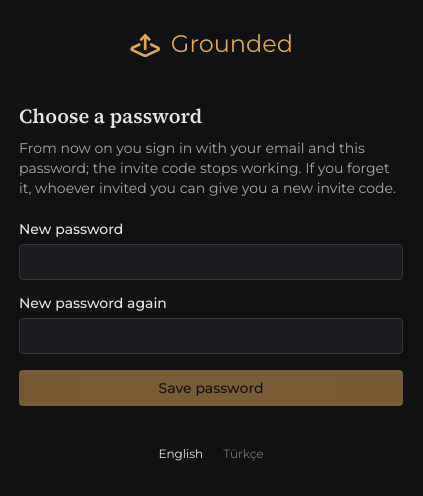
Test: the password page › words the server's length rule
Type "short" into the password field labelled "New password" at [211, 262], box [19,244,403,280]
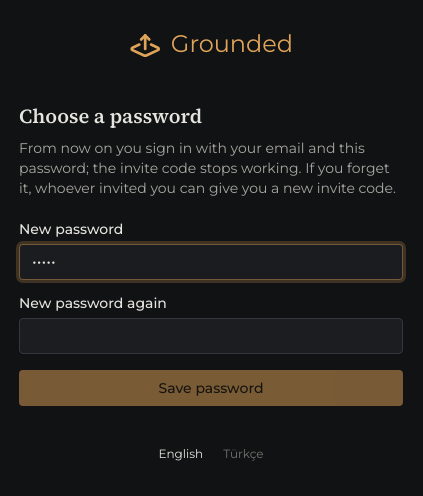
Type "short" into the password field labelled "New password again" at [211, 336], box [19,318,403,354]
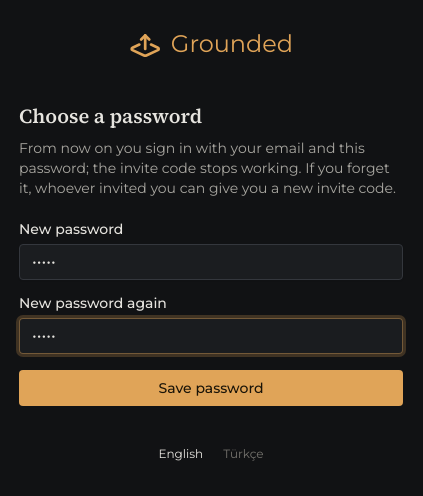
Click the button "Save password" at [211, 388], box [19,370,403,406]
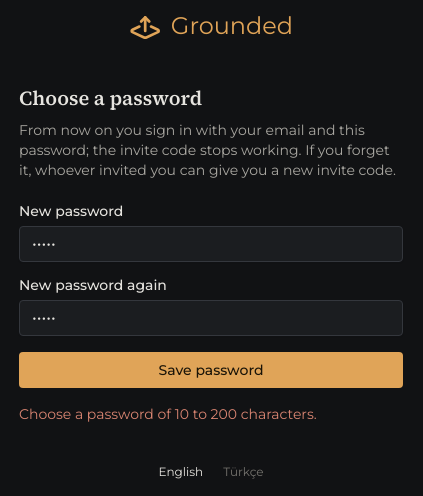
expect the text "Choose a password of 10 to 200 characters." is shown: met, box [19,405,317,423]
